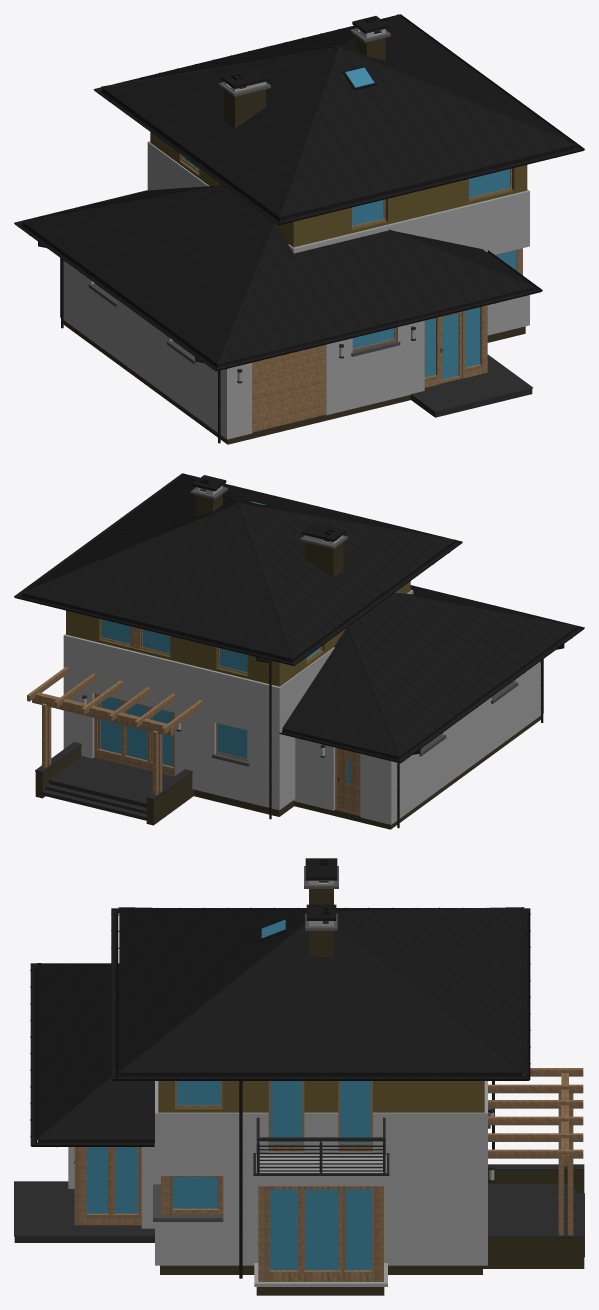
Rendered from Bambo_House.obj.
The picture shows the model from 3 angles, top to bottom: view 1: azimuth 30°, elevation 25°; view 2: azimuth 150°, elevation 25°; view 3: azimuth 270°, elevation 25°; orthographic projection. The views are drawn at different scales.
Visible parts, largest first — view 1: roof_roof_metal_dark, body_house_body_house_plaster_white, gutters_gutters_metal_dark, body_house_body_house_wood_balls, garage_garage_wood_light, windows_windows_glass_window, stairs_stairs_plate_grey, fundametnts_fundametnts_foundation_mosaic, windows_windows_wood_light, ridge_ridge_metal_dark, chimneys_chimneys_foundation_mosaic, door_door_glass_window (+4 smaller); view 2: roof_roof_metal_dark, body_house_body_house_plaster_white, gutters_gutters_metal_dark, stairs_stairs_plate_grey, boards_boards_wood_light, body_house_body_house_wood_balls, windows_windows_glass_window, windows_windows_wood_light, door_door_glass_window, fundametnts_fundametnts_foundation_mosaic, wall_barrels_wall_barrels_foundation_mosaic, door_door_wood_light (+5 smaller); view 3: roof_roof_metal_dark, body_house_body_house_plaster_white, windows_windows_glass_window, windows_windows_wood_light, stairs_stairs_plate_grey, gutters_gutters_metal_dark, body_house_body_house_wood_balls, boards_boards_wood_light, wall_barrels_wall_barrels_foundation_mosaic, barrels_barrels_metal_grey, fundametnts_fundametnts_foundation_mosaic, ridge_ridge_metal_dark (+5 smaller).
Boxes of the visible parts, x1=… form: roof_roof_metal_dark: x1=22, y1=15, x2=576, y2=366; body_house_body_house_plaster_white: x1=60, y1=73, x2=529, y2=439; gutters_gutters_metal_dark: x1=14, y1=14, x2=584, y2=443; body_house_body_house_wood_balls: x1=150, y1=132, x2=527, y2=247; garage_garage_wood_light: x1=252, y1=344, x2=325, y2=432; windows_windows_glass_window: x1=184, y1=157, x2=516, y2=377; stairs_stairs_plate_grey: x1=411, y1=354, x2=533, y2=411; fundametnts_fundametnts_foundation_mosaic: x1=63, y1=320, x2=525, y2=444; windows_windows_wood_light: x1=94, y1=156, x2=522, y2=387; ridge_ridge_metal_dark: x1=22, y1=14, x2=576, y2=364; chimneys_chimneys_foundation_mosaic: x1=224, y1=31, x2=385, y2=128; door_door_glass_window: x1=442, y1=313, x2=458, y2=379; roof_roof_metal_dark: x1=21, y1=474, x2=577, y2=758; body_house_body_house_plaster_white: x1=63, y1=589, x2=543, y2=824; gutters_gutters_metal_dark: x1=14, y1=473, x2=584, y2=828; stairs_stairs_plate_grey: x1=42, y1=756, x2=173, y2=820; boards_boards_wood_light: x1=27, y1=667, x2=202, y2=795; body_house_body_house_wood_balls: x1=66, y1=581, x2=410, y2=686; windows_windows_glass_window: x1=102, y1=619, x2=350, y2=784; windows_windows_wood_light: x1=100, y1=619, x2=512, y2=815; door_door_glass_window: x1=100, y1=697, x2=172, y2=766; fundametnts_fundametnts_foundation_mosaic: x1=194, y1=716, x2=540, y2=829; wall_barrels_wall_barrels_foundation_mosaic: x1=35, y1=746, x2=194, y2=825; door_door_wood_light: x1=94, y1=693, x2=174, y2=776; roof_roof_metal_dark: x1=36, y1=907, x2=523, y2=1142; body_house_body_house_plaster_white: x1=68, y1=1081, x2=487, y2=1286; windows_windows_glass_window: x1=86, y1=1081, x2=371, y2=1270; windows_windows_wood_light: x1=74, y1=1081, x2=383, y2=1281; stairs_stairs_plate_grey: x1=14, y1=1181, x2=584, y2=1257; gutters_gutters_metal_dark: x1=30, y1=908, x2=530, y2=1278; body_house_body_house_wood_balls: x1=158, y1=1081, x2=484, y2=1112; boards_boards_wood_light: x1=488, y1=1068, x2=583, y2=1235; wall_barrels_wall_barrels_foundation_mosaic: x1=483, y1=1170, x2=584, y2=1268; barrels_barrels_metal_grey: x1=253, y1=1117, x2=389, y2=1175; fundametnts_fundametnts_foundation_mosaic: x1=160, y1=1265, x2=482, y2=1295; ridge_ridge_metal_dark: x1=36, y1=907, x2=524, y2=1139.
Bounding box in the file's own units: 13.64 × 9 × 14.54.
Materials: 11 (1 with a texture image).
